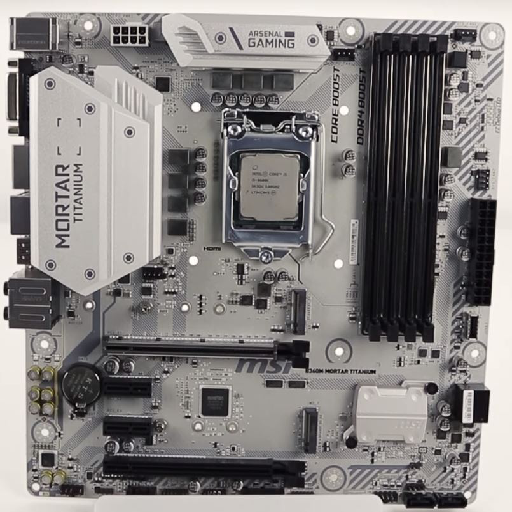CPU: (217, 107, 324, 261)
GPU: (103, 452, 310, 489), (103, 333, 309, 370)
MOTHERBOARD: (9, 9, 505, 512)
RAM: (353, 28, 447, 340)
SSD: (286, 287, 312, 334), (298, 405, 322, 455)
